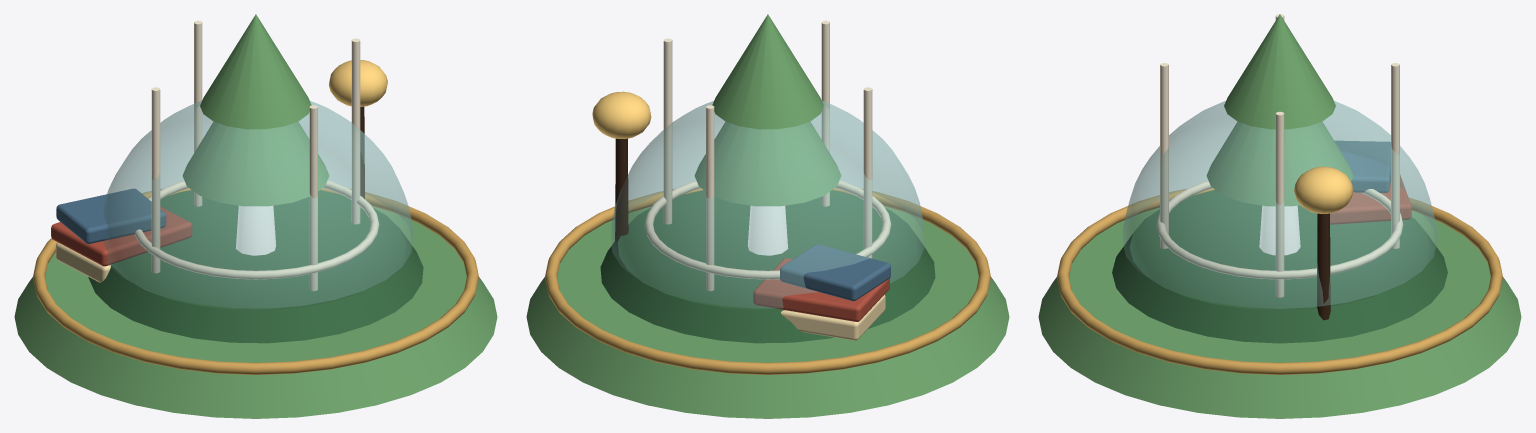
File: sensitivity-greenhouse.glb
The picture shows the model from 3 angles, left to right: view 1: azimuth 30°, elevation 25°; view 2: azimuth 150°, elevation 25°; view 3: azimuth 270°, elevation 25°; orthographic projection.
Visible parts, largest first — view 1: glass-dome, asset-plinth, greenhouse-floor, soft-plant, plinth-rim, soft-plant-top, greenhouse-frame (×4), book-cover-small, greenhouse-ring, book-cover, plant-stem, small-lamp (+2 smaller); view 2: glass-dome, asset-plinth, greenhouse-floor, plinth-rim, soft-plant, soft-plant-top, greenhouse-frame (×4), book-cover-small, book-cover, greenhouse-ring, small-lamp, plant-stem (+2 smaller); view 3: glass-dome, asset-plinth, greenhouse-floor, plinth-rim, soft-plant, soft-plant-top, greenhouse-frame (×3), greenhouse-ring, small-lamp, book-cover-small, book-cover, plant-stem (+1 smaller).
Boxes of the visible parts, box(x1,y1,x2,y2) form: glass-dome: box(103, 101, 412, 308); asset-plinth: box(14, 206, 497, 418); greenhouse-floor: box(88, 190, 423, 343); soft-plant: box(182, 121, 329, 206); plinth-rim: box(33, 188, 478, 374); soft-plant-top: box(200, 14, 311, 129); greenhouse-frame (×4): box(151, 20, 360, 290); book-cover-small: box(56, 188, 166, 243); greenhouse-ring: box(134, 181, 379, 279); book-cover: box(51, 207, 192, 266); plant-stem: box(236, 206, 275, 255); small-lamp: box(329, 60, 387, 106); glass-dome: box(611, 101, 924, 308); asset-plinth: box(526, 206, 1009, 418); greenhouse-floor: box(600, 190, 935, 343); plinth-rim: box(545, 188, 990, 374); soft-plant: box(694, 121, 841, 206); soft-plant-top: box(712, 14, 823, 129); greenhouse-frame (×4): box(663, 20, 872, 290); book-cover-small: box(780, 244, 890, 301); book-cover: box(753, 258, 889, 321); greenhouse-ring: box(644, 181, 891, 279); small-lamp: box(592, 91, 651, 138); plant-stem: box(748, 206, 787, 255); glass-dome: box(1122, 101, 1437, 308); asset-plinth: box(1038, 207, 1521, 418); greenhouse-floor: box(1112, 190, 1447, 343); plinth-rim: box(1057, 188, 1502, 374); soft-plant: box(1206, 121, 1353, 206); soft-plant-top: box(1224, 14, 1335, 129); greenhouse-frame (×3): box(1160, 63, 1399, 297); greenhouse-ring: box(1156, 181, 1403, 279); small-lamp: box(1294, 166, 1353, 213); book-cover-small: box(1334, 141, 1390, 192); book-cover: box(1330, 175, 1411, 224); plant-stem: box(1259, 206, 1300, 255).
Bounding box in the file's own units: 2.76 × 1.91 × 2.76.
